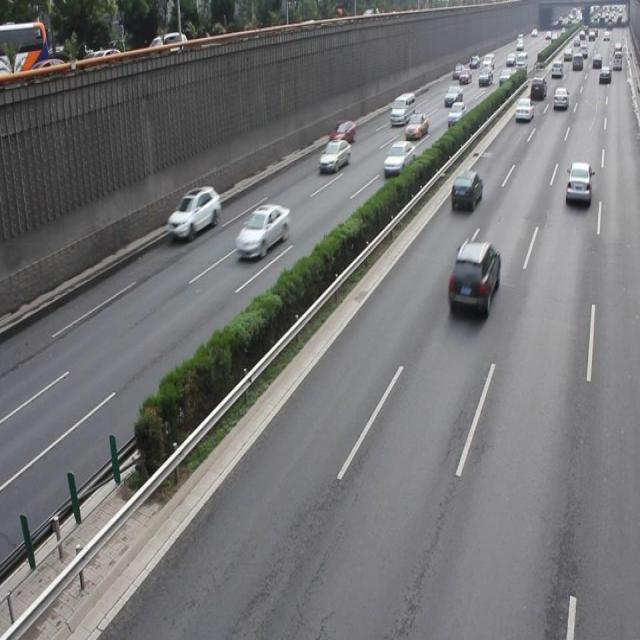car: (446, 239, 499, 316), (236, 203, 290, 259), (167, 184, 220, 241), (449, 168, 482, 212), (563, 161, 590, 204), (382, 140, 414, 174), (318, 139, 349, 173)
